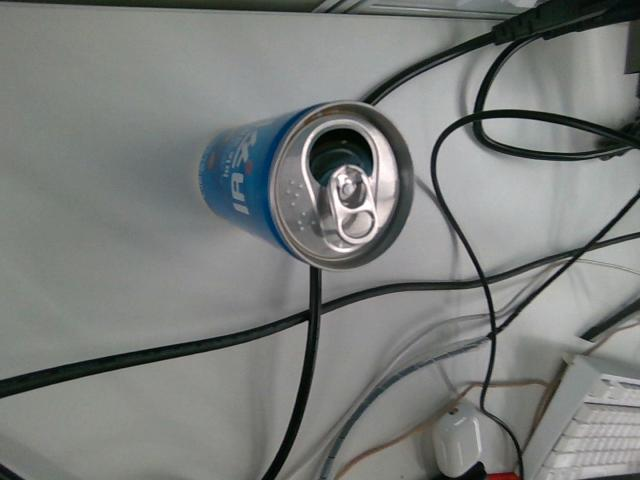letsbe: (197, 99, 413, 271)
